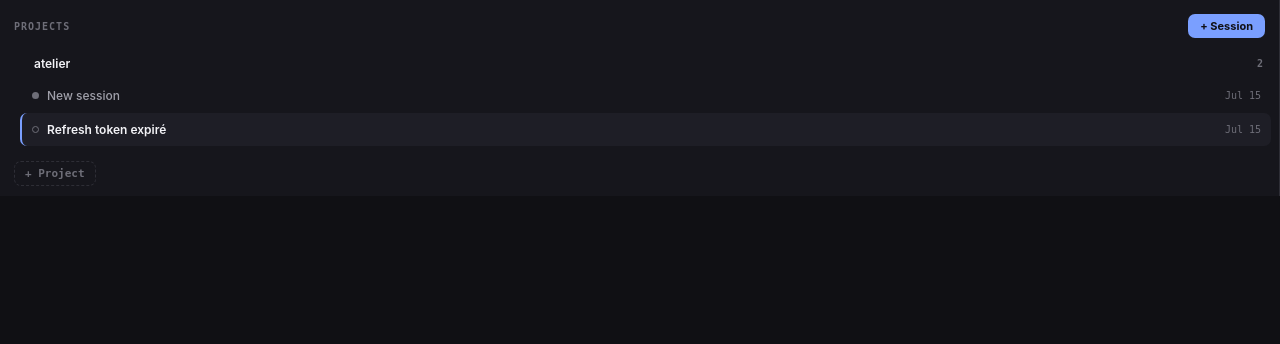
Test: SessionSidebar projects › a failed registration is surfaced inside the footer form
Click the button "+ Project" at (55, 174), box [14,161,96,186]
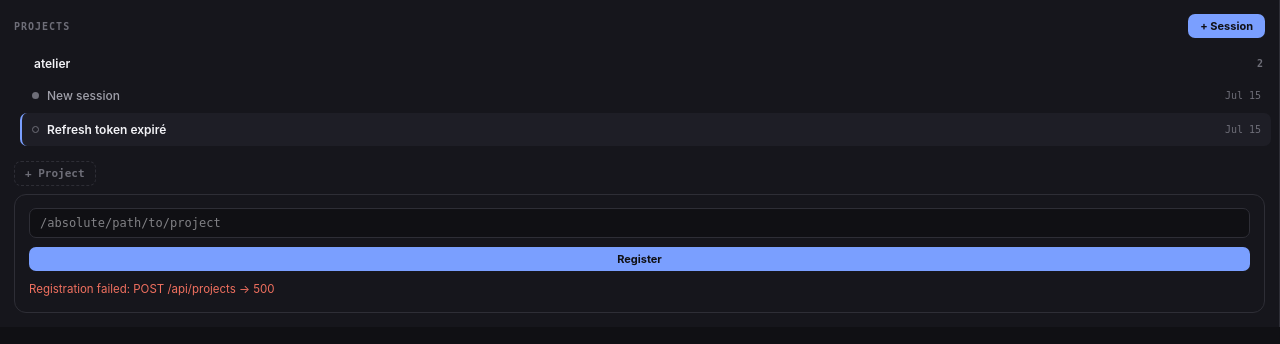
Expected: the message shows "POST /api/projects → 500", [133,282,275,296]
